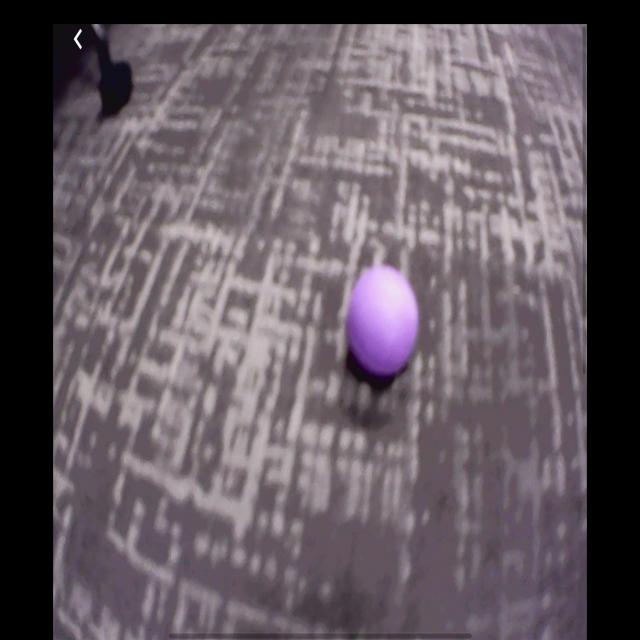ball: (347, 267, 417, 377)
